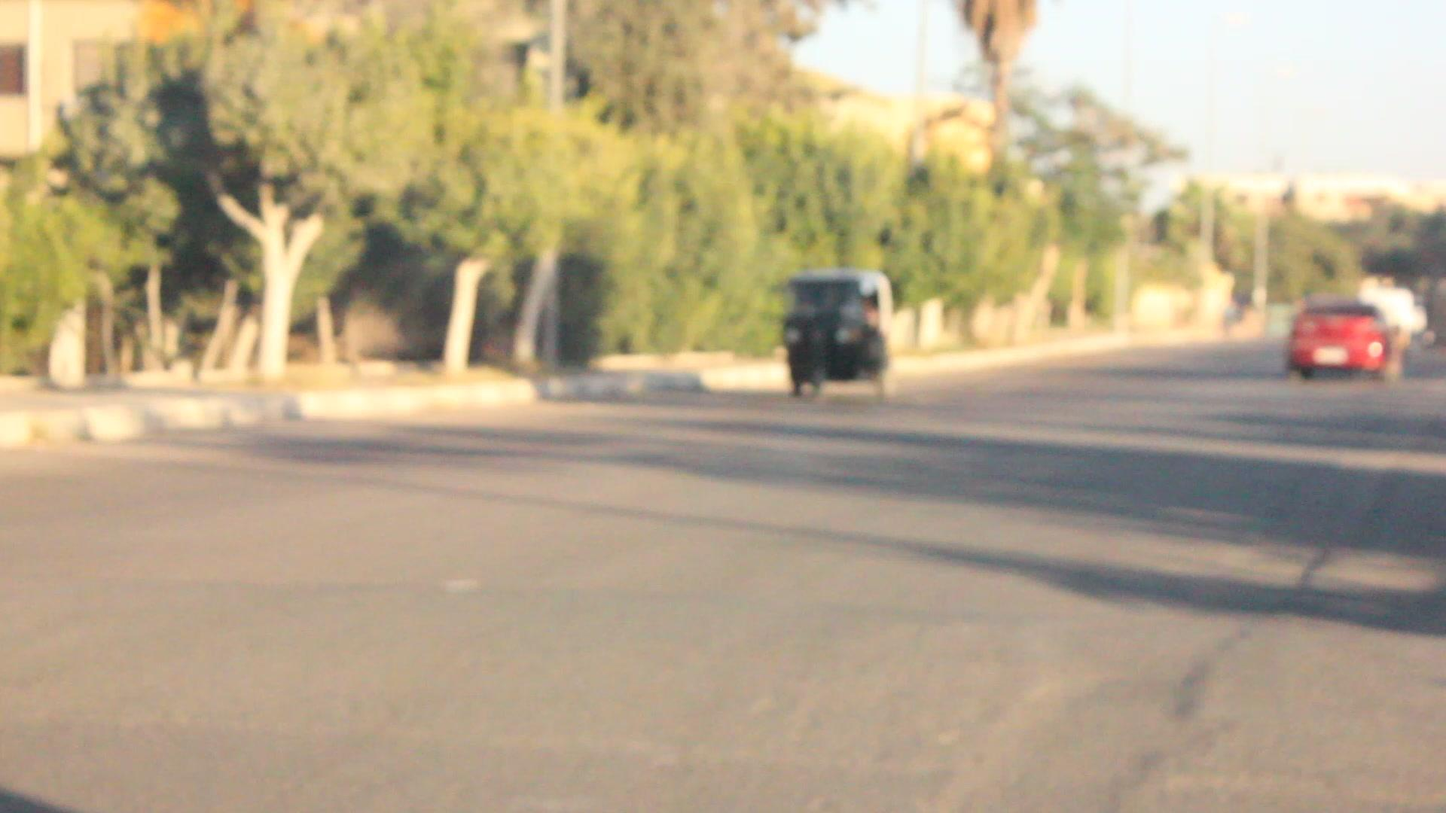Bump: (2, 565, 1446, 777)
